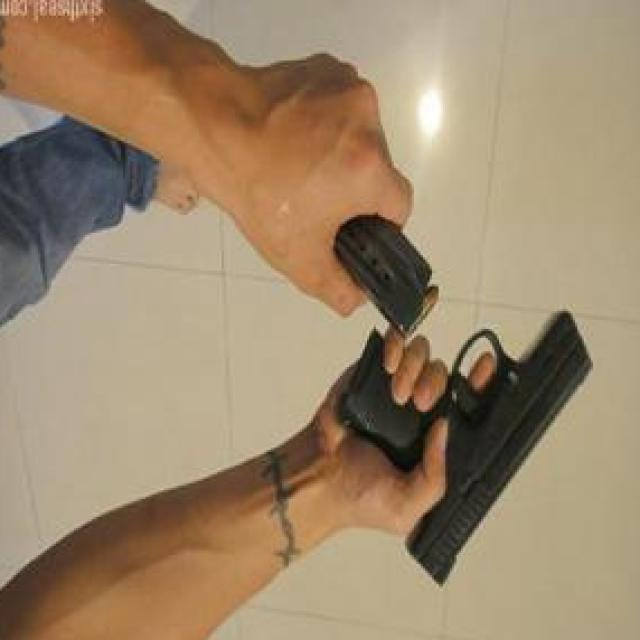pistol: (336, 306, 588, 590)
